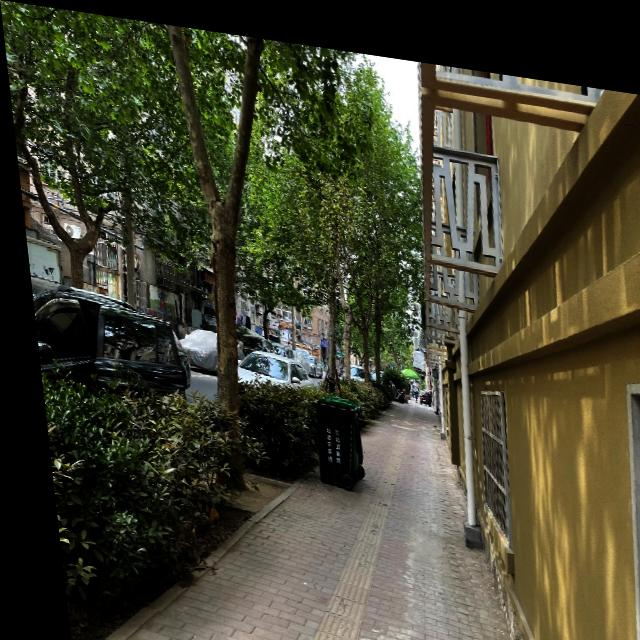garbage_bin: (302, 391, 350, 479)
